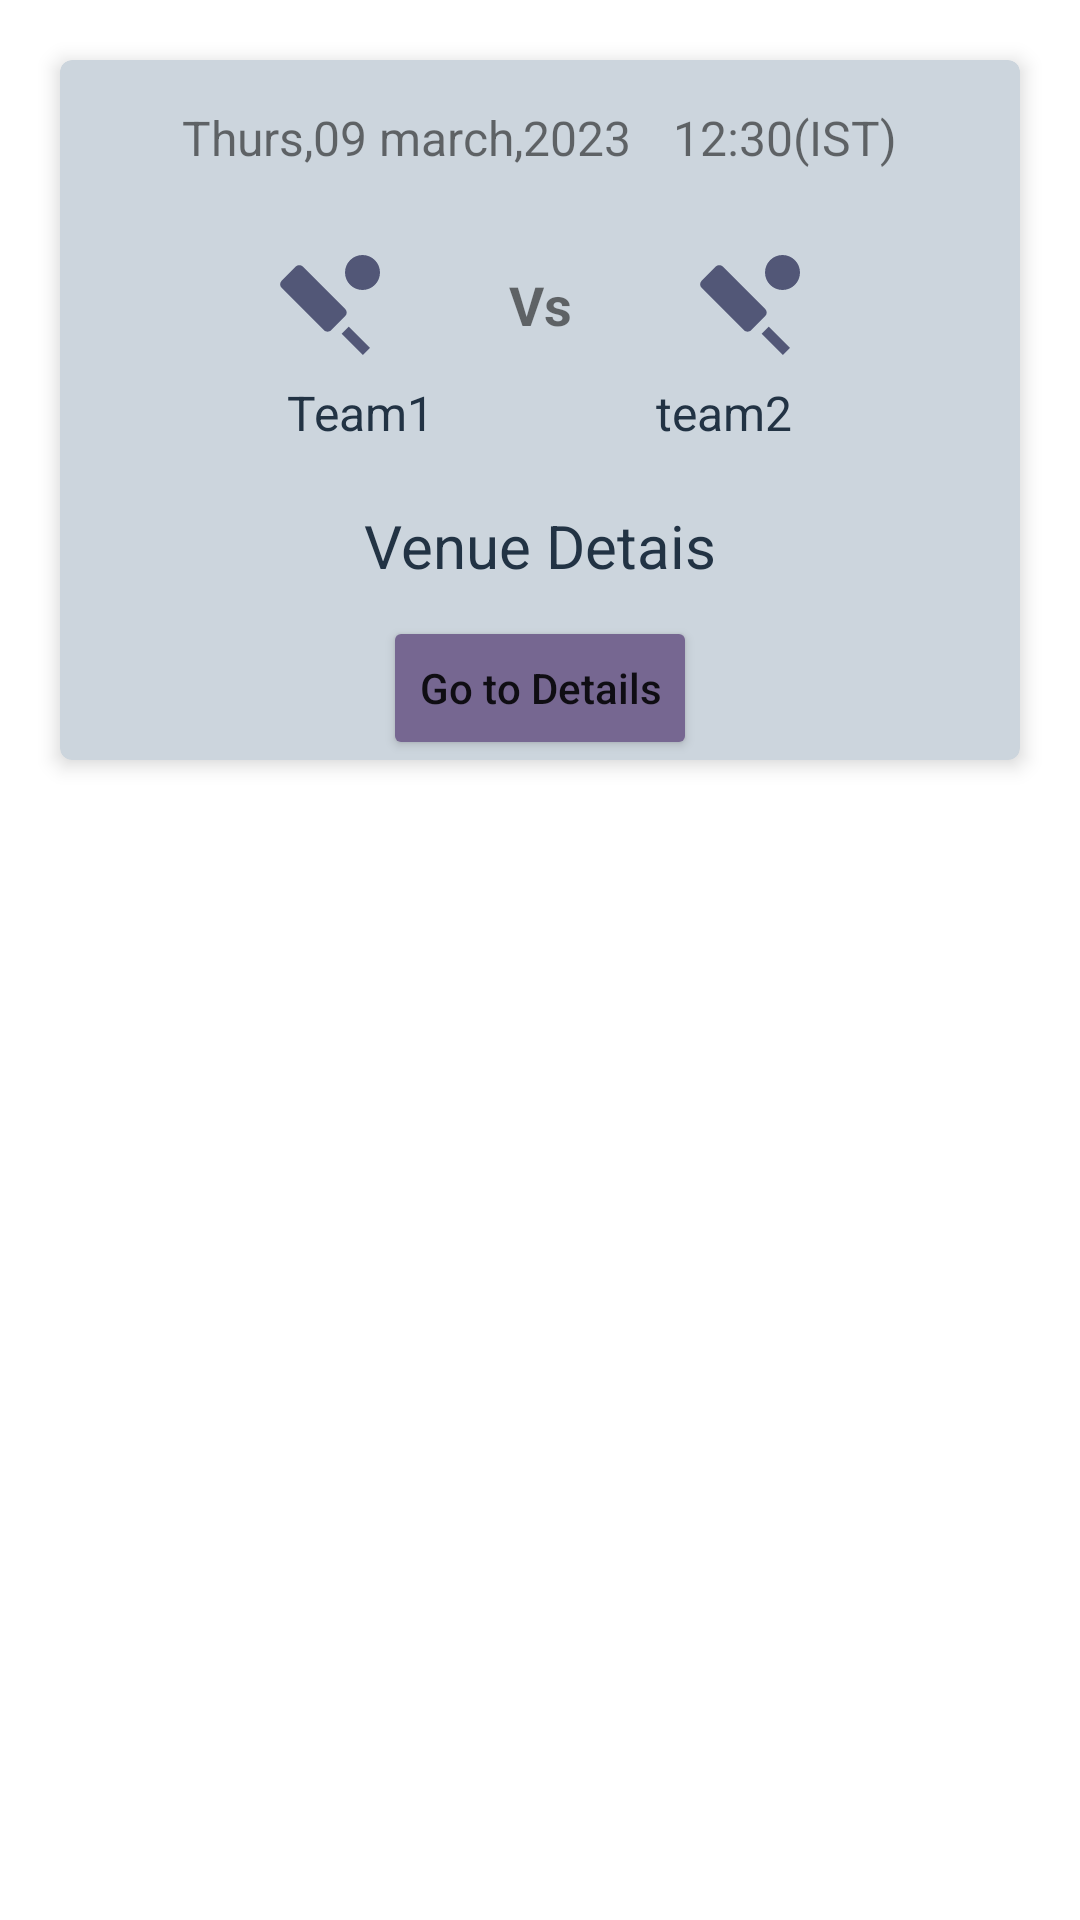

Screen size 1080px x 1920px. Icon name, then its center in pixels as [x,y]:
sports cricket: [330,305], [750,305]
